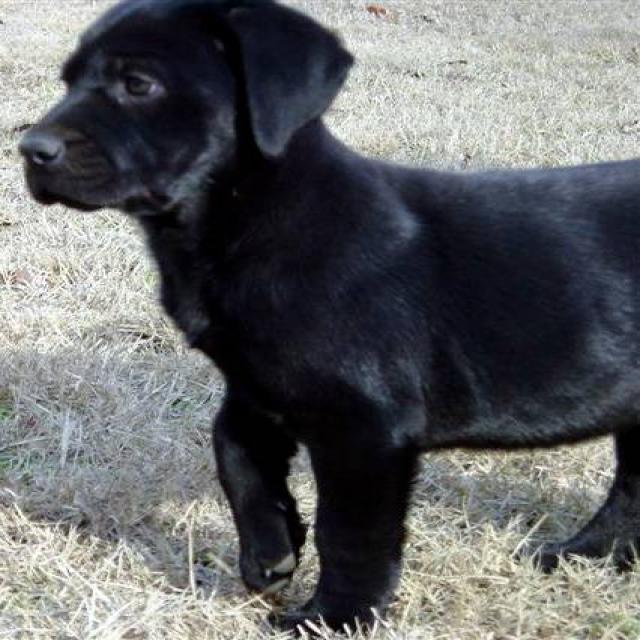dog: (15, 0, 639, 639)
